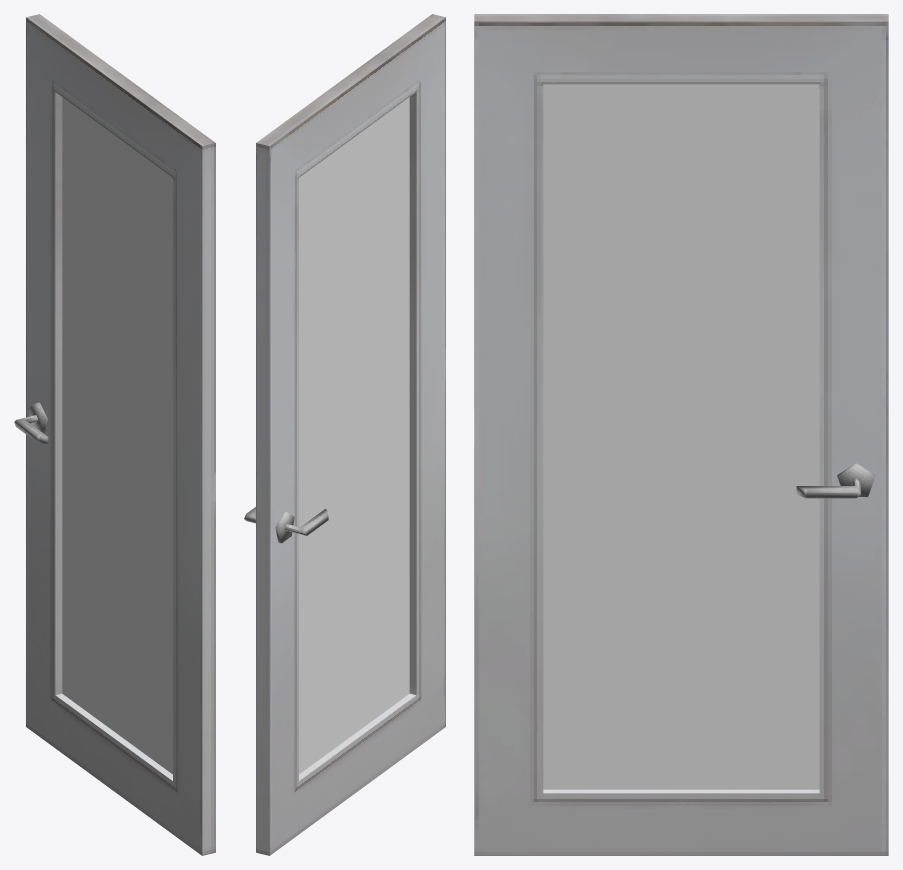
File: EntranceDoor.glb
3 views of the same model, side by side, from view 1: azimuth 30°, elevation 25°; view 2: azimuth 150°, elevation 25°; view 3: azimuth 270°, elevation 25° (orthographic). The views are drawn at different scales.
Visible parts, largest first — view 1: entrance door; view 2: entrance door; view 3: entrance door.
Boxes of the visible parts, x1=… form: entrance door: x1=14, y1=14, x2=215, y2=855; entrance door: x1=244, y1=14, x2=445, y2=855; entrance door: x1=474, y1=14, x2=888, y2=855.
Bounding box in the file's own units: 0.18 × 2 × 0.9.
Materials: 3 (2 with a texture image).
